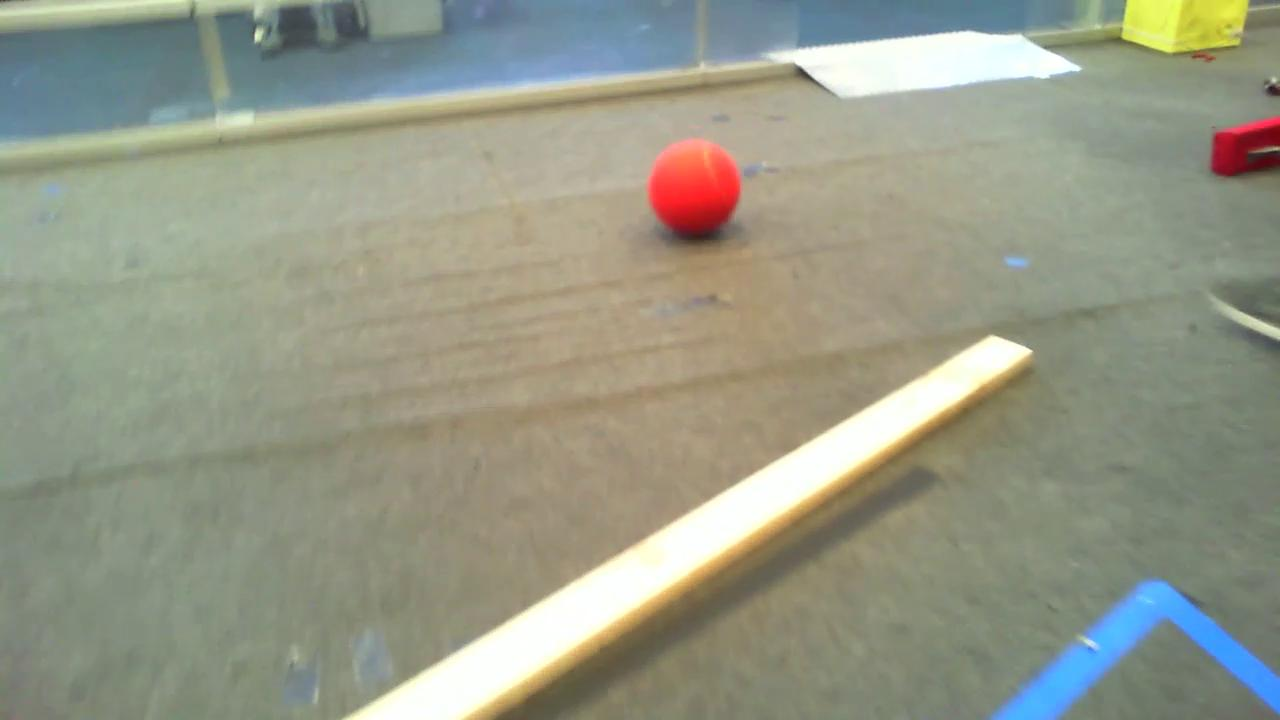Red_Ball: (630, 128, 746, 247)
